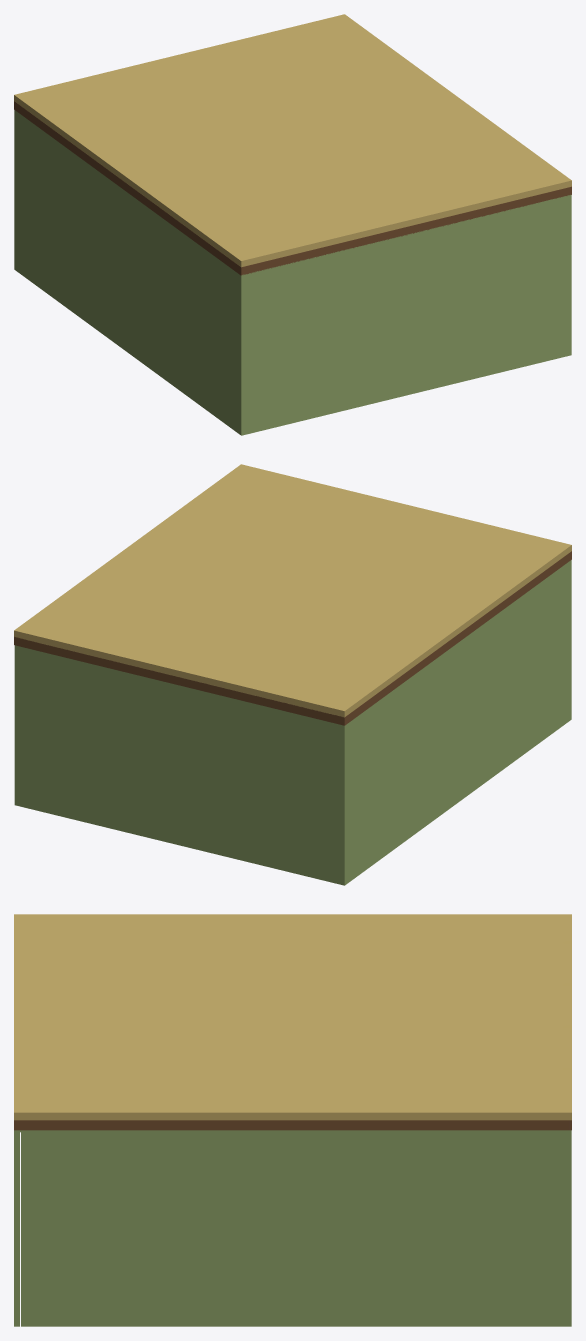
The model's file is classroom.glb.
The picture shows the model from 3 angles, top to bottom: view 1: azimuth 30°, elevation 25°; view 2: azimuth 150°, elevation 25°; view 3: azimuth 270°, elevation 25°; orthographic projection. The views are drawn at different scales.
Visible parts, largest first — view 1: Object_2; view 2: Object_2; view 3: Object_2.
Boxes of the visible parts, bbox=[...] form: Object_2: bbox=[14, 14, 571, 435]; Object_2: bbox=[14, 464, 571, 885]; Object_2: bbox=[14, 914, 571, 1326].
Size of the model in its own units: 21.2 by 10.69 by 25.22.
1 material, 1 textured.
